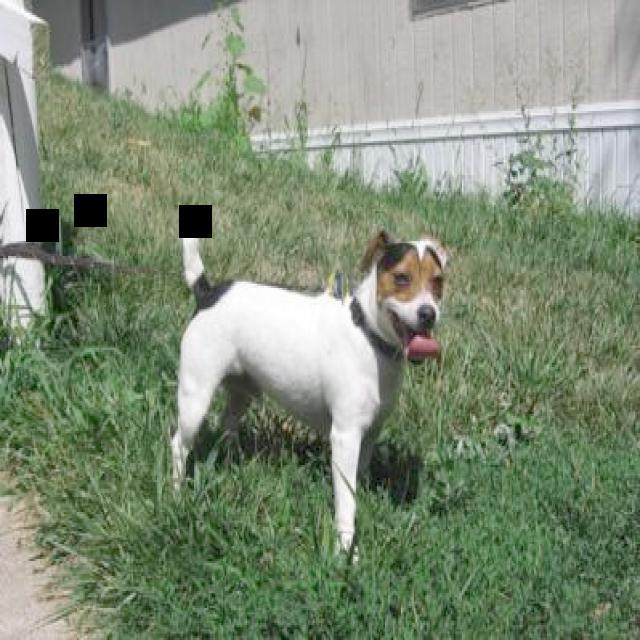adult_dog: (168, 224, 451, 565)
